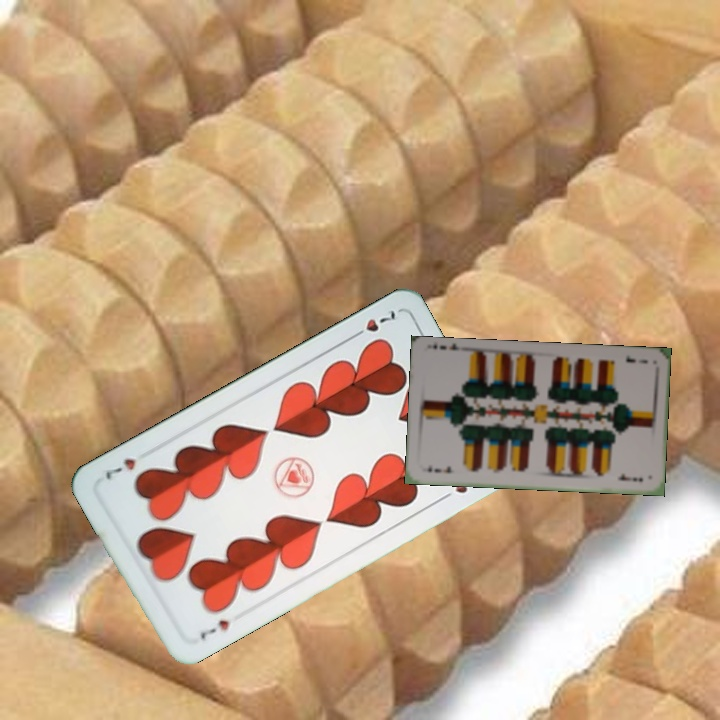E7: (423, 461, 457, 475), (622, 351, 650, 366)
H7: (346, 306, 398, 342), (196, 615, 232, 642)
